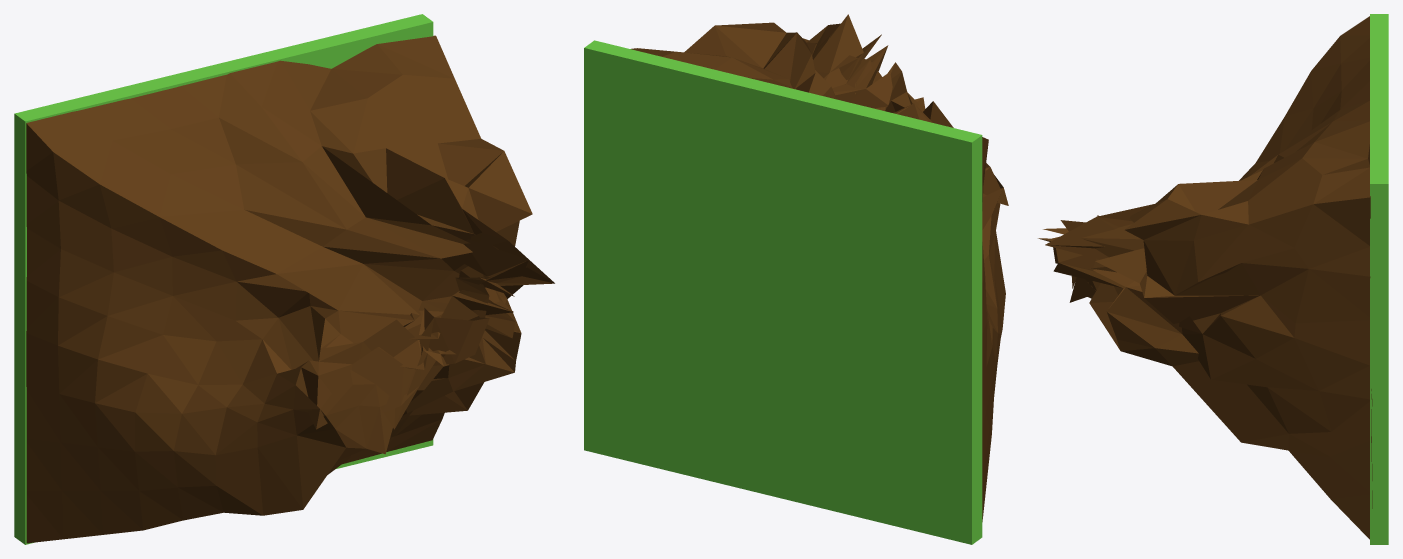
File: island2.dae
3 views of the same model, side by side, from view 1: azimuth 30°, elevation 25°; view 2: azimuth 150°, elevation 25°; view 3: azimuth 270°, elevation 25° (orthographic). The views are drawn at different scales.
Parts seen in each view (by area): view 1: Cube; view 2: Cube; view 3: Cube.
Boxes of the visible parts, x1,y1,x2,y2 form: Cube: [14, 14, 554, 544]; Cube: [584, 14, 1008, 544]; Cube: [1038, 14, 1388, 544].
Size of the model in its own units: 16 by 13.88 by 15.75.
